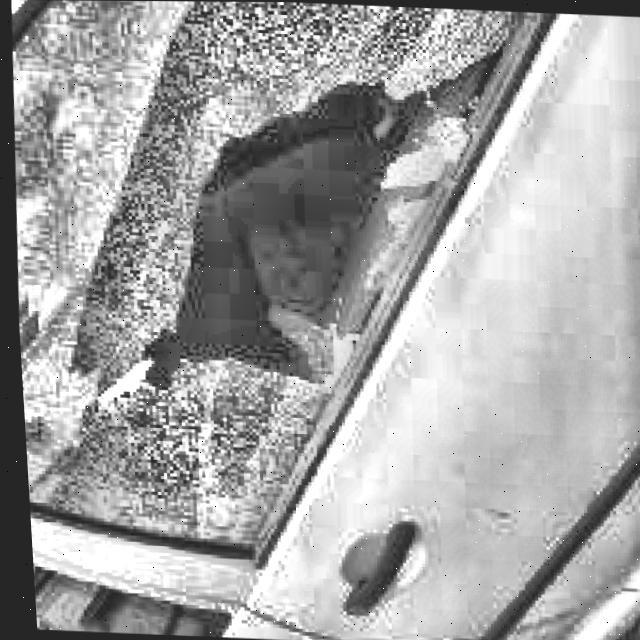glass_shatter: (110, 17, 507, 412)
